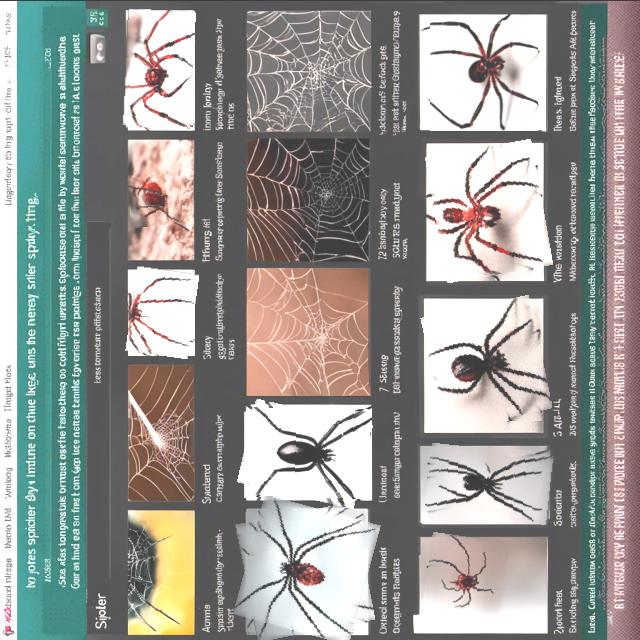spider: (240, 501, 374, 638), (240, 506, 370, 636), (430, 142, 548, 278), (426, 299, 547, 425), (241, 404, 369, 502), (430, 19, 538, 130), (250, 407, 370, 497), (426, 445, 554, 521), (124, 8, 194, 126), (426, 534, 508, 612), (128, 266, 196, 356), (129, 173, 182, 225)
